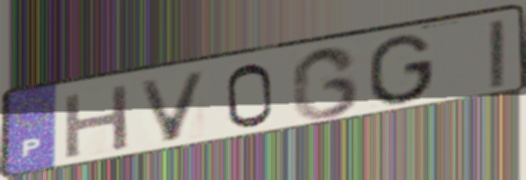0: (223, 61, 274, 131)
G: (289, 43, 362, 122), (366, 33, 437, 109)
H: (61, 81, 133, 163)
I: (485, 16, 508, 92)
V: (134, 68, 212, 146)
